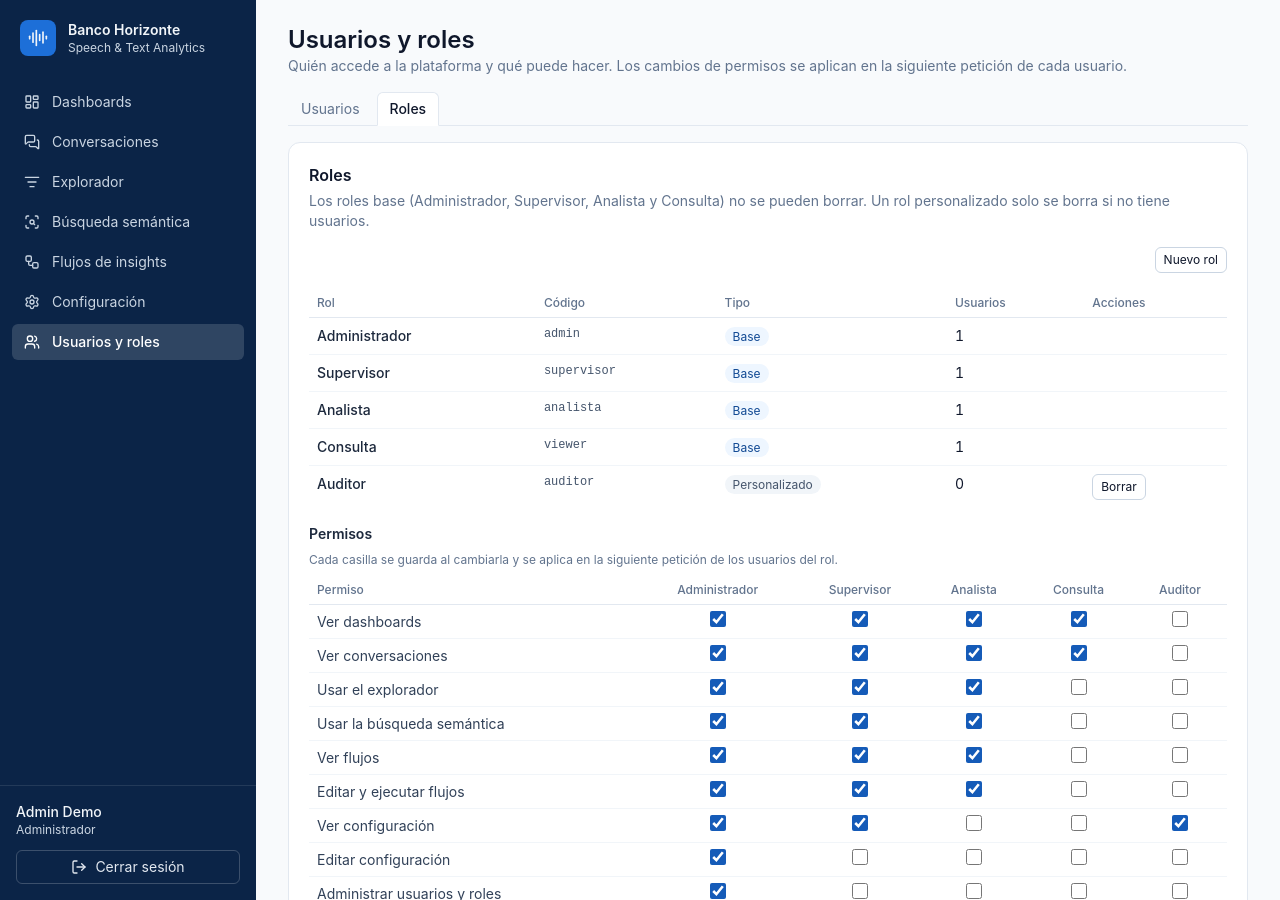
Test: Usuarios y roles: pestaña Roles › muestra el motivo cuando una protección rechaza el cambio de permisos
Click the checkbox named "Administrar usuarios y roles · Administrador". click: (718, 891)
box: top-left (710, 883), bottom-right (726, 899)
(page scrolled)
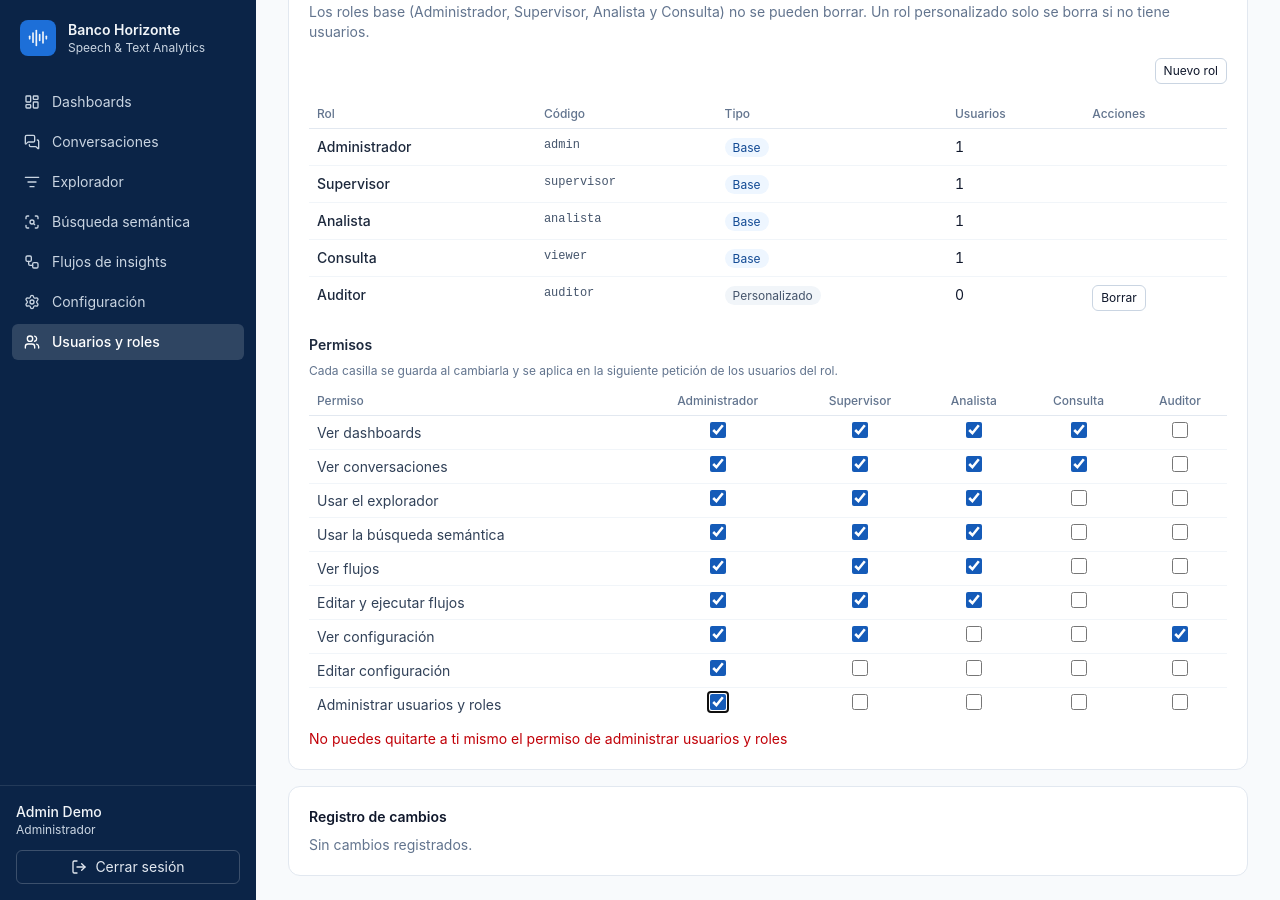
Check: the message shows "No puedes quitarte a ti mismo", box top-left (309, 730), bottom-right (787, 747)
